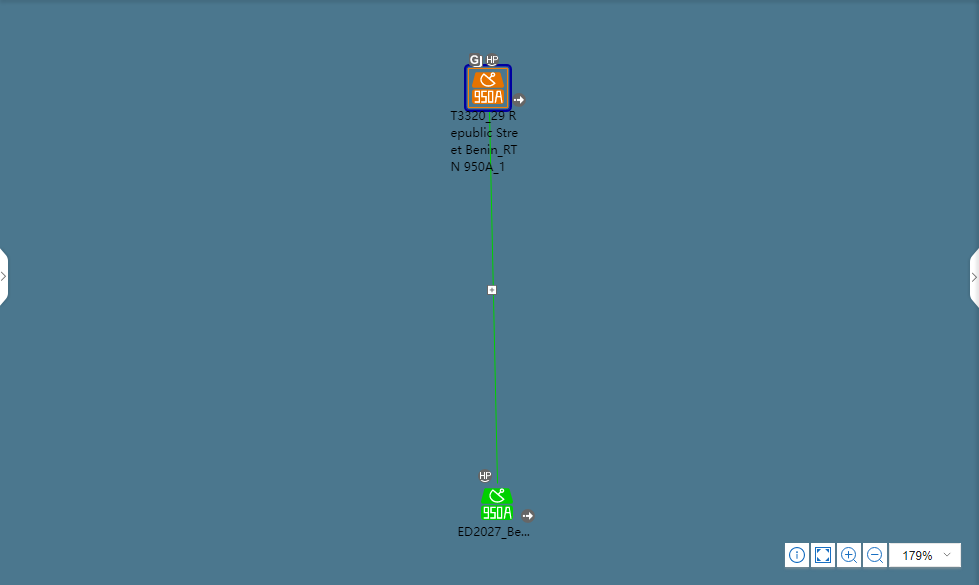Link_Green: (486, 118, 503, 484)
RTN_Green: (480, 491, 516, 527)
RTN_Orange: (468, 69, 509, 110)
